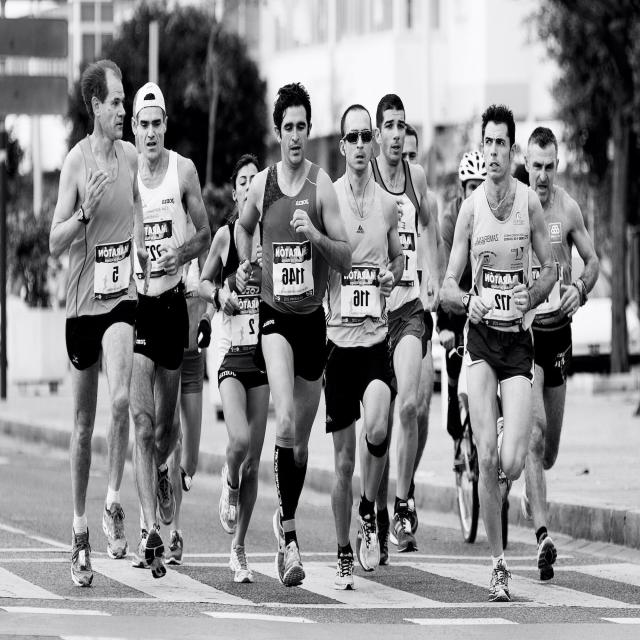adult: (442, 101, 556, 600), (238, 82, 350, 584), (48, 58, 154, 583), (131, 84, 212, 578), (326, 103, 402, 593), (522, 124, 602, 578), (196, 154, 268, 580), (372, 94, 434, 563)
